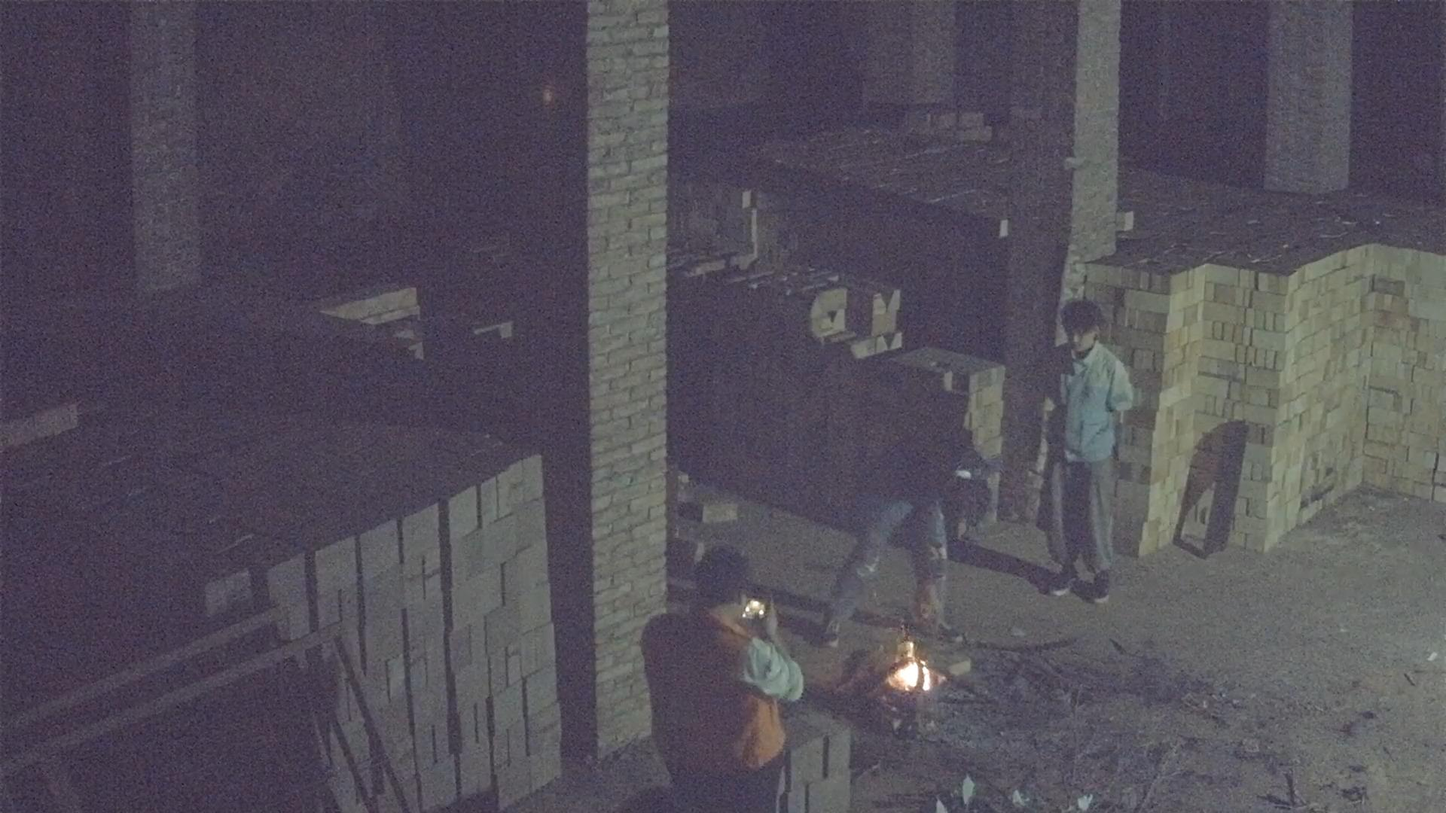fire: (887, 659, 923, 691)
